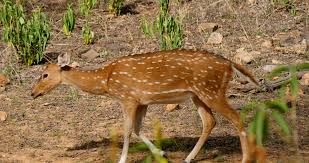Deer: (27, 50, 254, 163)
